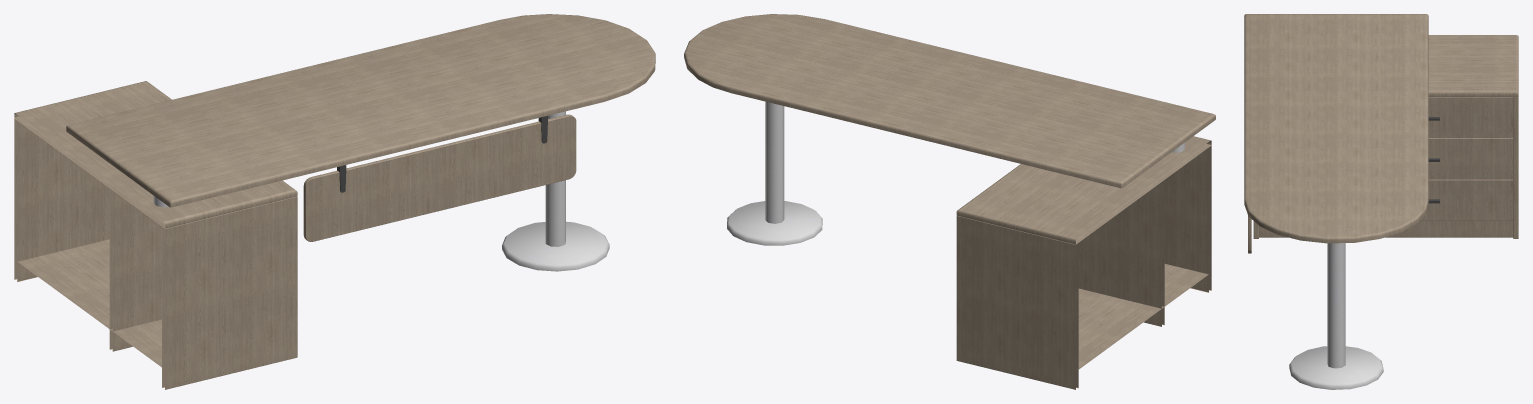
File: SM_检查室_桌子_01.fbx
The picture shows the model from 3 angles, left to right: view 1: azimuth 30°, elevation 25°; view 2: azimuth 150°, elevation 25°; view 3: azimuth 270°, elevation 25°; orthographic projection. The views are drawn at different scales.
Visible parts, largest first — view 1: SM_检查室_桌子_01; view 2: SM_检查室_桌子_01; view 3: SM_检查室_桌子_01.
Part boxes in pixels (x1,y1,x2,y2): SM_检查室_桌子_01: (14,14,655,389); SM_检查室_桌子_01: (684,14,1215,389); SM_检查室_桌子_01: (1244,14,1518,389).
Size of the model in its own units: 1964 by 689 by 1013.
